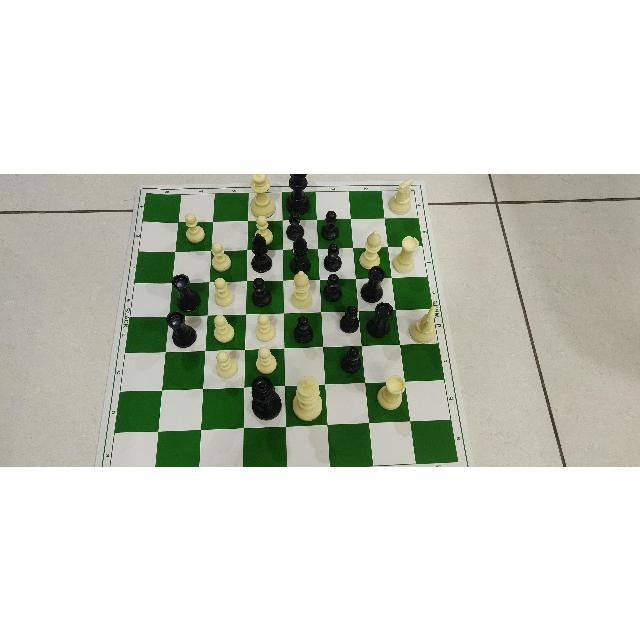black-bishop: (250, 232, 274, 271), (289, 234, 306, 273)
black-king: (286, 173, 314, 214)
black-pawn: (250, 276, 271, 305), (324, 242, 344, 272), (339, 346, 360, 374), (321, 207, 338, 241), (293, 315, 314, 342), (340, 305, 361, 332), (322, 273, 342, 301), (286, 207, 303, 238)
black-queen: (248, 374, 284, 421)
black-rook: (165, 310, 197, 347), (170, 272, 200, 311), (366, 301, 393, 337), (362, 263, 386, 303)
white-bishop: (356, 229, 382, 269), (291, 270, 315, 308)
white-king: (293, 375, 324, 421)
white-knight: (409, 303, 439, 343), (388, 175, 416, 214)
white-pawn: (211, 314, 236, 344), (209, 241, 233, 271), (182, 211, 205, 242), (211, 276, 234, 306), (254, 214, 276, 244), (255, 346, 279, 373), (215, 350, 238, 378), (256, 312, 276, 340)
white-queen: (250, 174, 276, 214)
white-rook: (373, 373, 406, 412), (394, 233, 418, 274)
